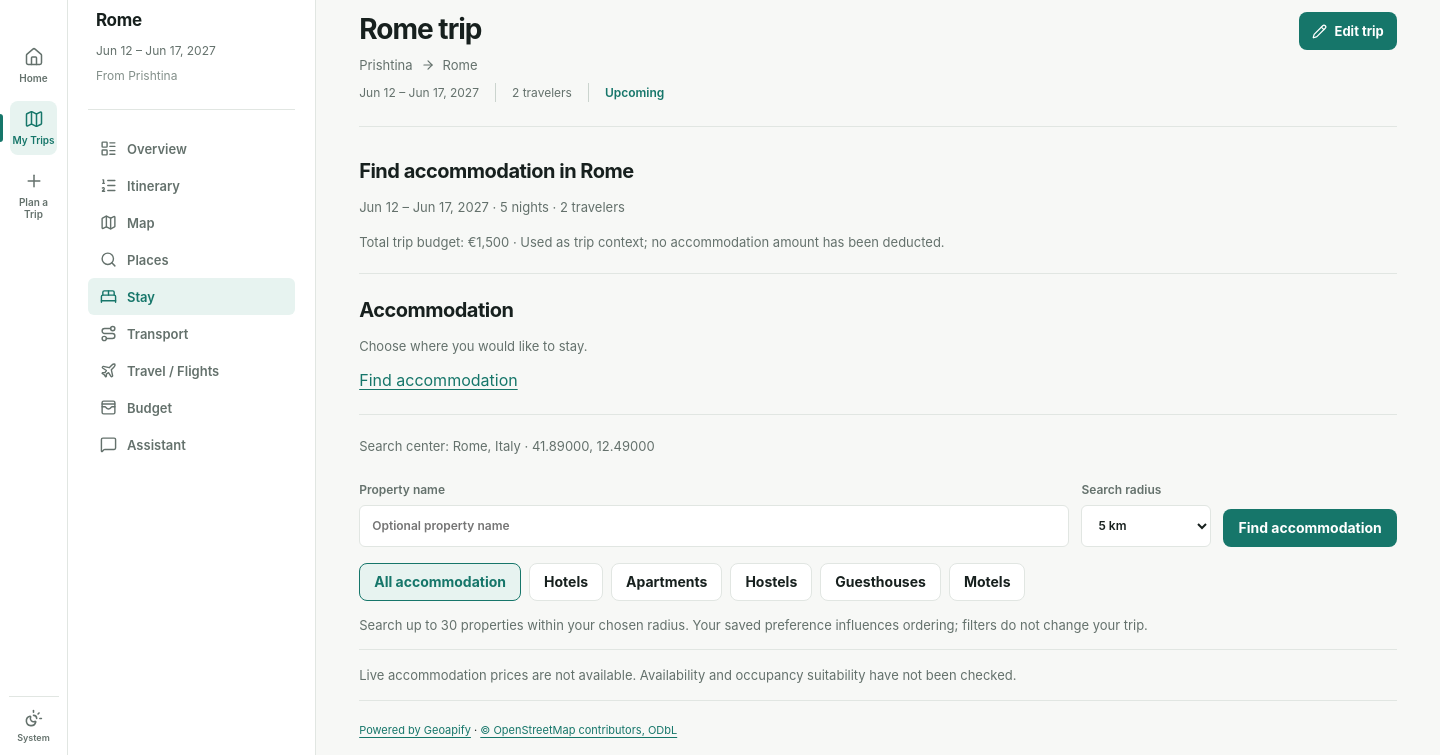
Accommodation workspace through real repository and provider adapter › replaces one primary selection and clears it without removing search results
The image size is (1440, 755).
Expected: the heading "Find accommodation in Rome" is shown, [359,159,634,183]
Click the button "Find accommodation" at {"x": 1310, "y": 528}, box [1223,509,1397,547]
(page scrolled)
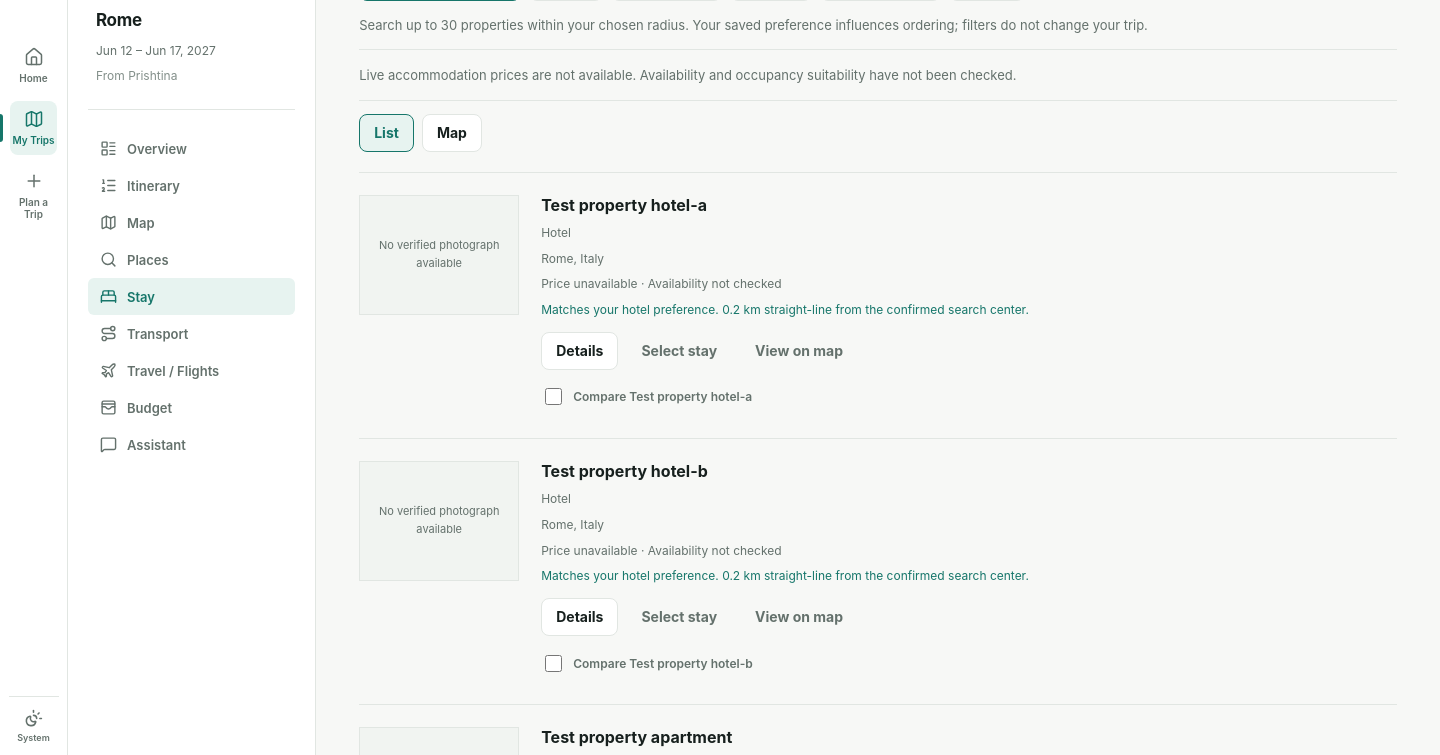
Expected: the button with aria-label "Details for Test property hotel-a" is shown, [541,332,618,370]
Click the button with aria-label "Select Test property hotel-a" at {"x": 679, "y": 351}, box [626,332,732,370]
(page scrolled)
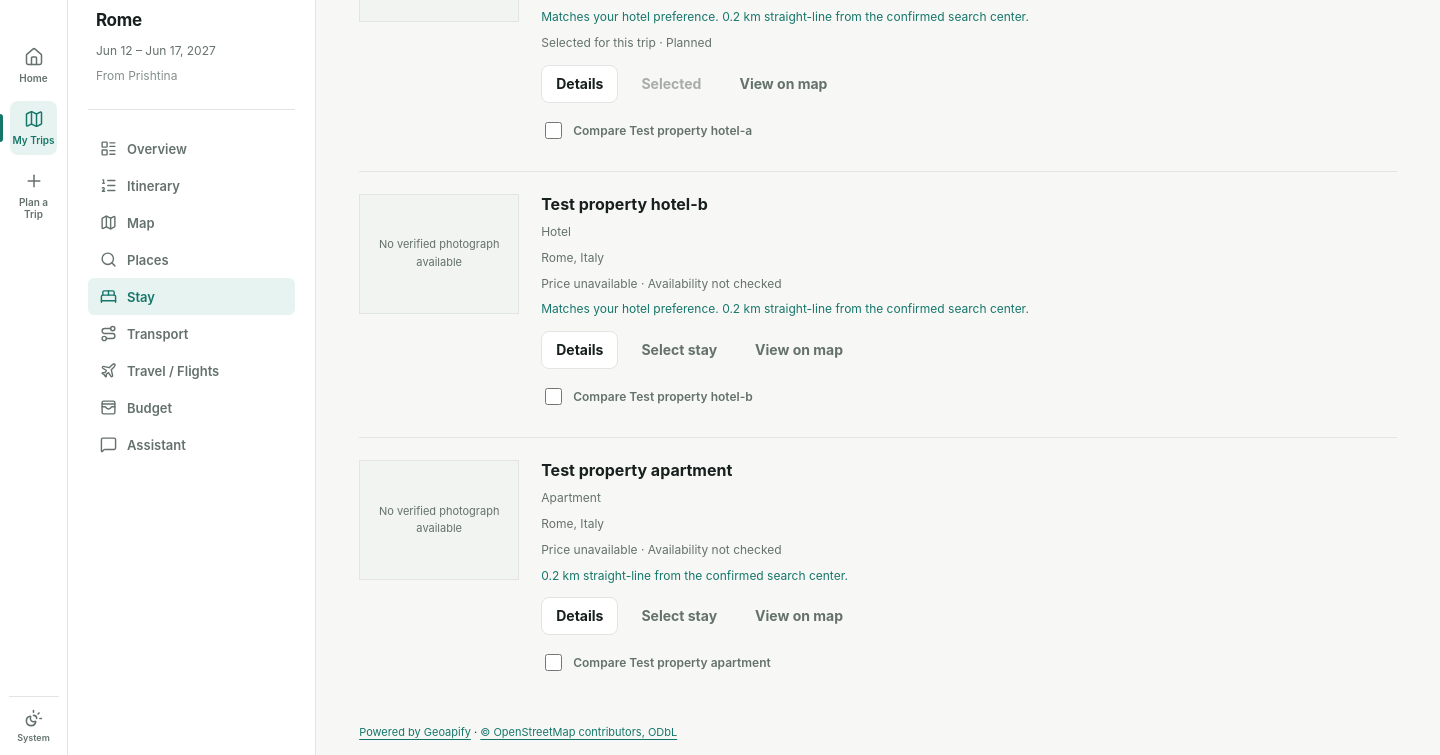
Click the button with aria-label "Select Test property hotel-b" at {"x": 679, "y": 350}, box [626,331,732,369]
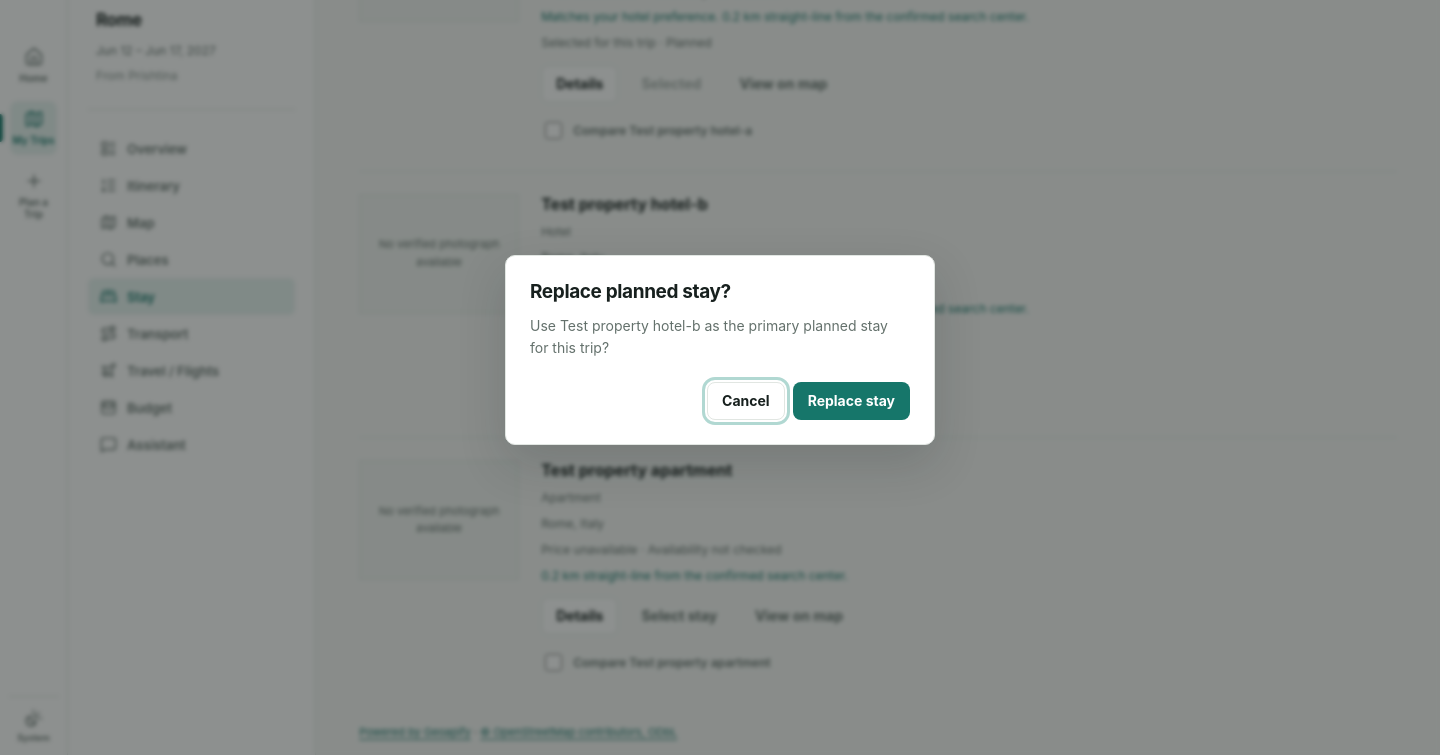
Click the button "Replace stay" at {"x": 851, "y": 401}, box [793,382,910,420]
(page scrolled)
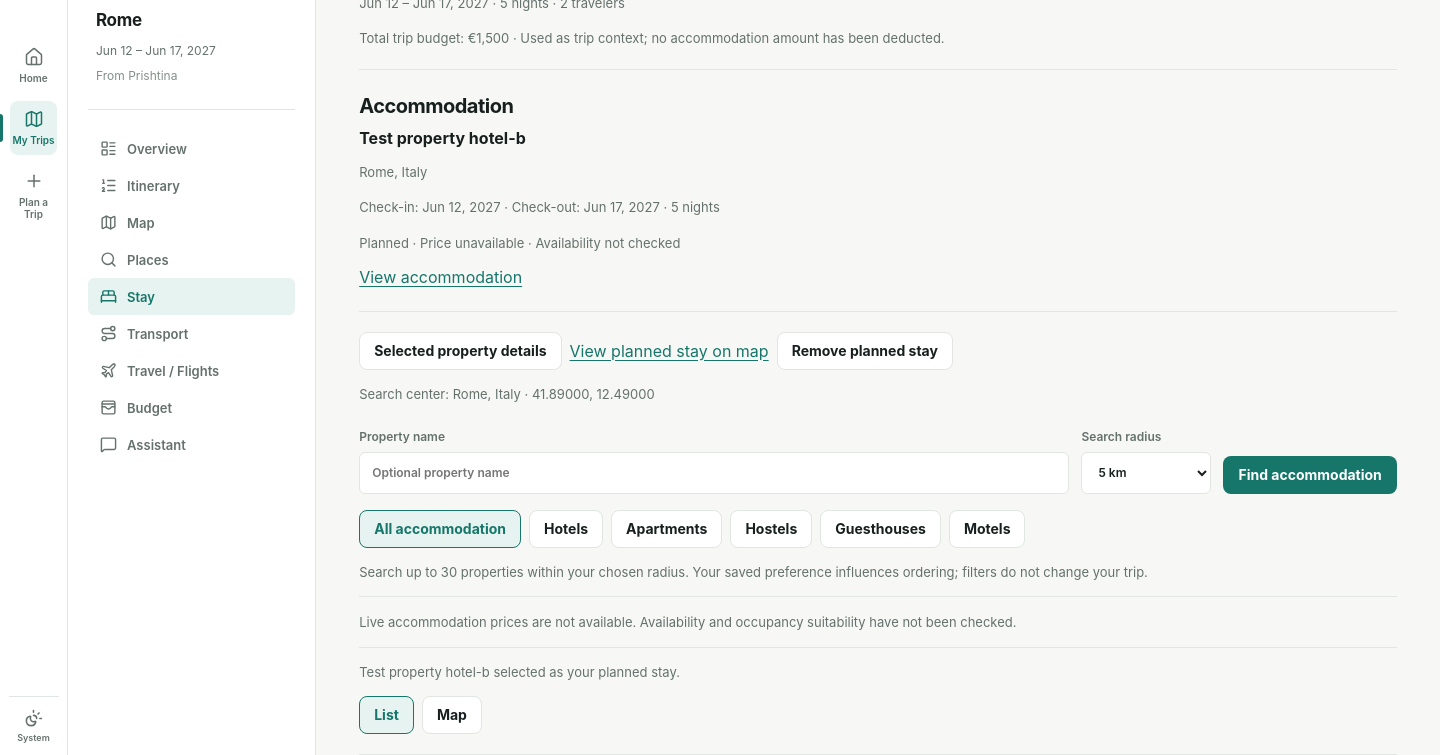
Expected: the element named "Planned accommodation" does not show "hotel-a", [359,69,1397,312]
Expected: the text "Test property hotel-b selected as your planned stay." is shown, [359,664,680,680]
Click the button "Remove planned stay" at {"x": 865, "y": 351}, box [777,332,953,370]
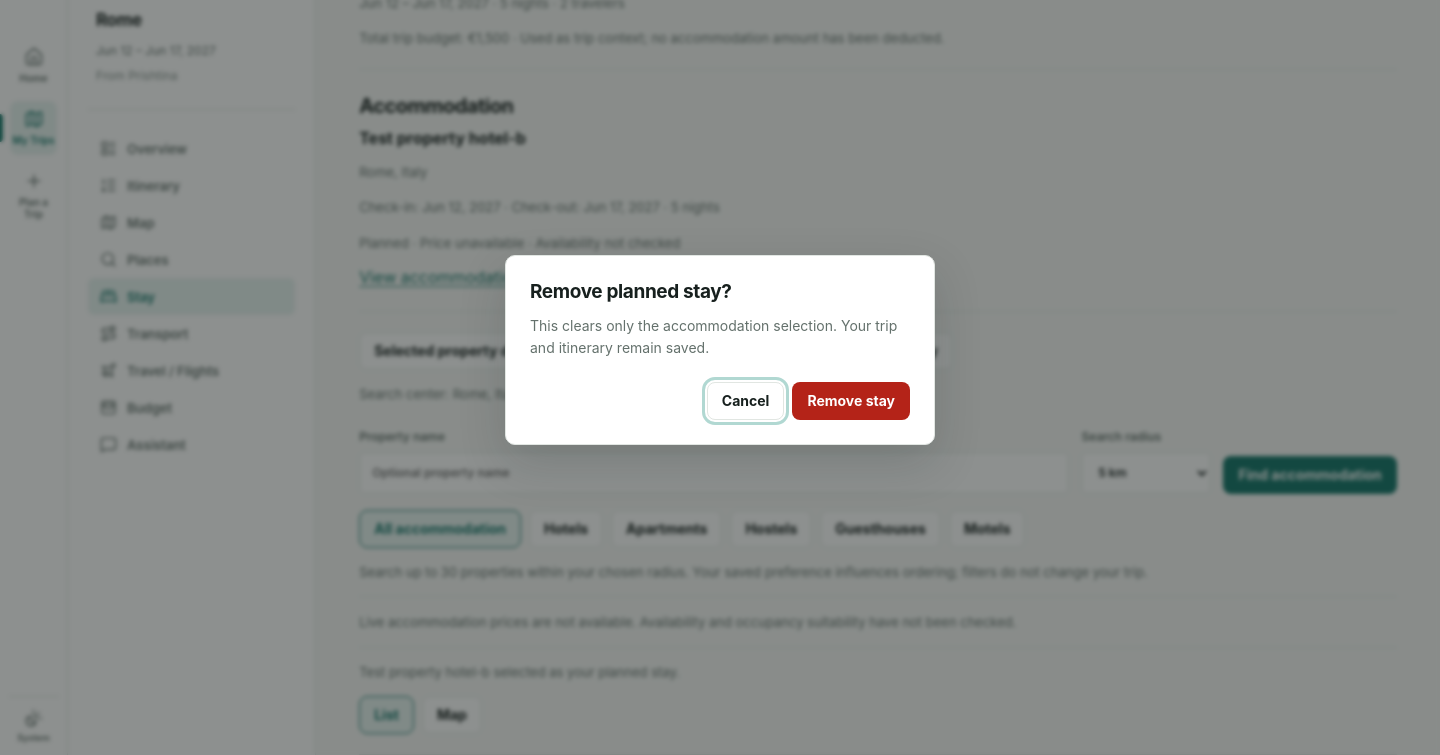
Click the button "Remove stay" at {"x": 851, "y": 401}, box [792,382,910,420]
(page scrolled)
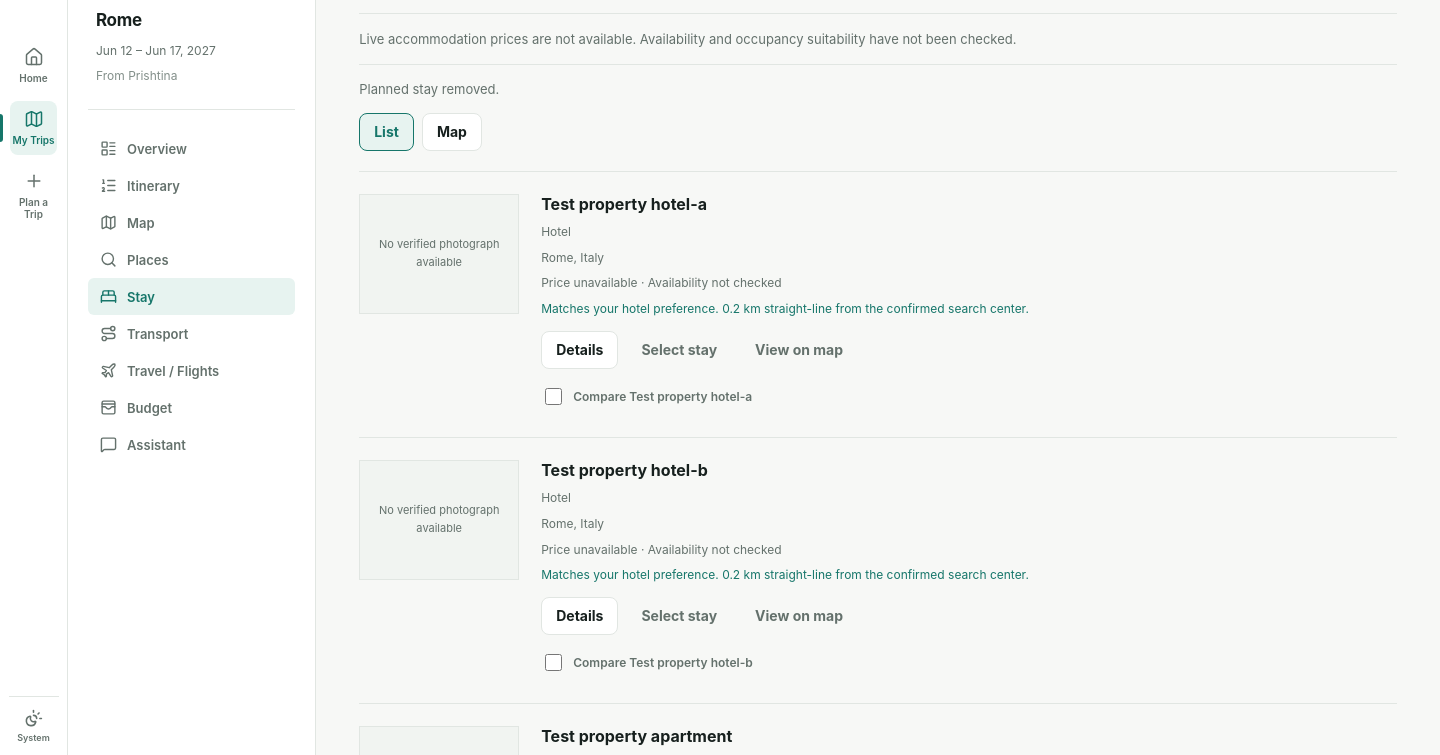
Expected: the button with aria-label "Details for Test property hotel-a" is shown, [541,331,618,369]
Expected: the text "Planned stay removed." is shown, [359,81,499,97]
